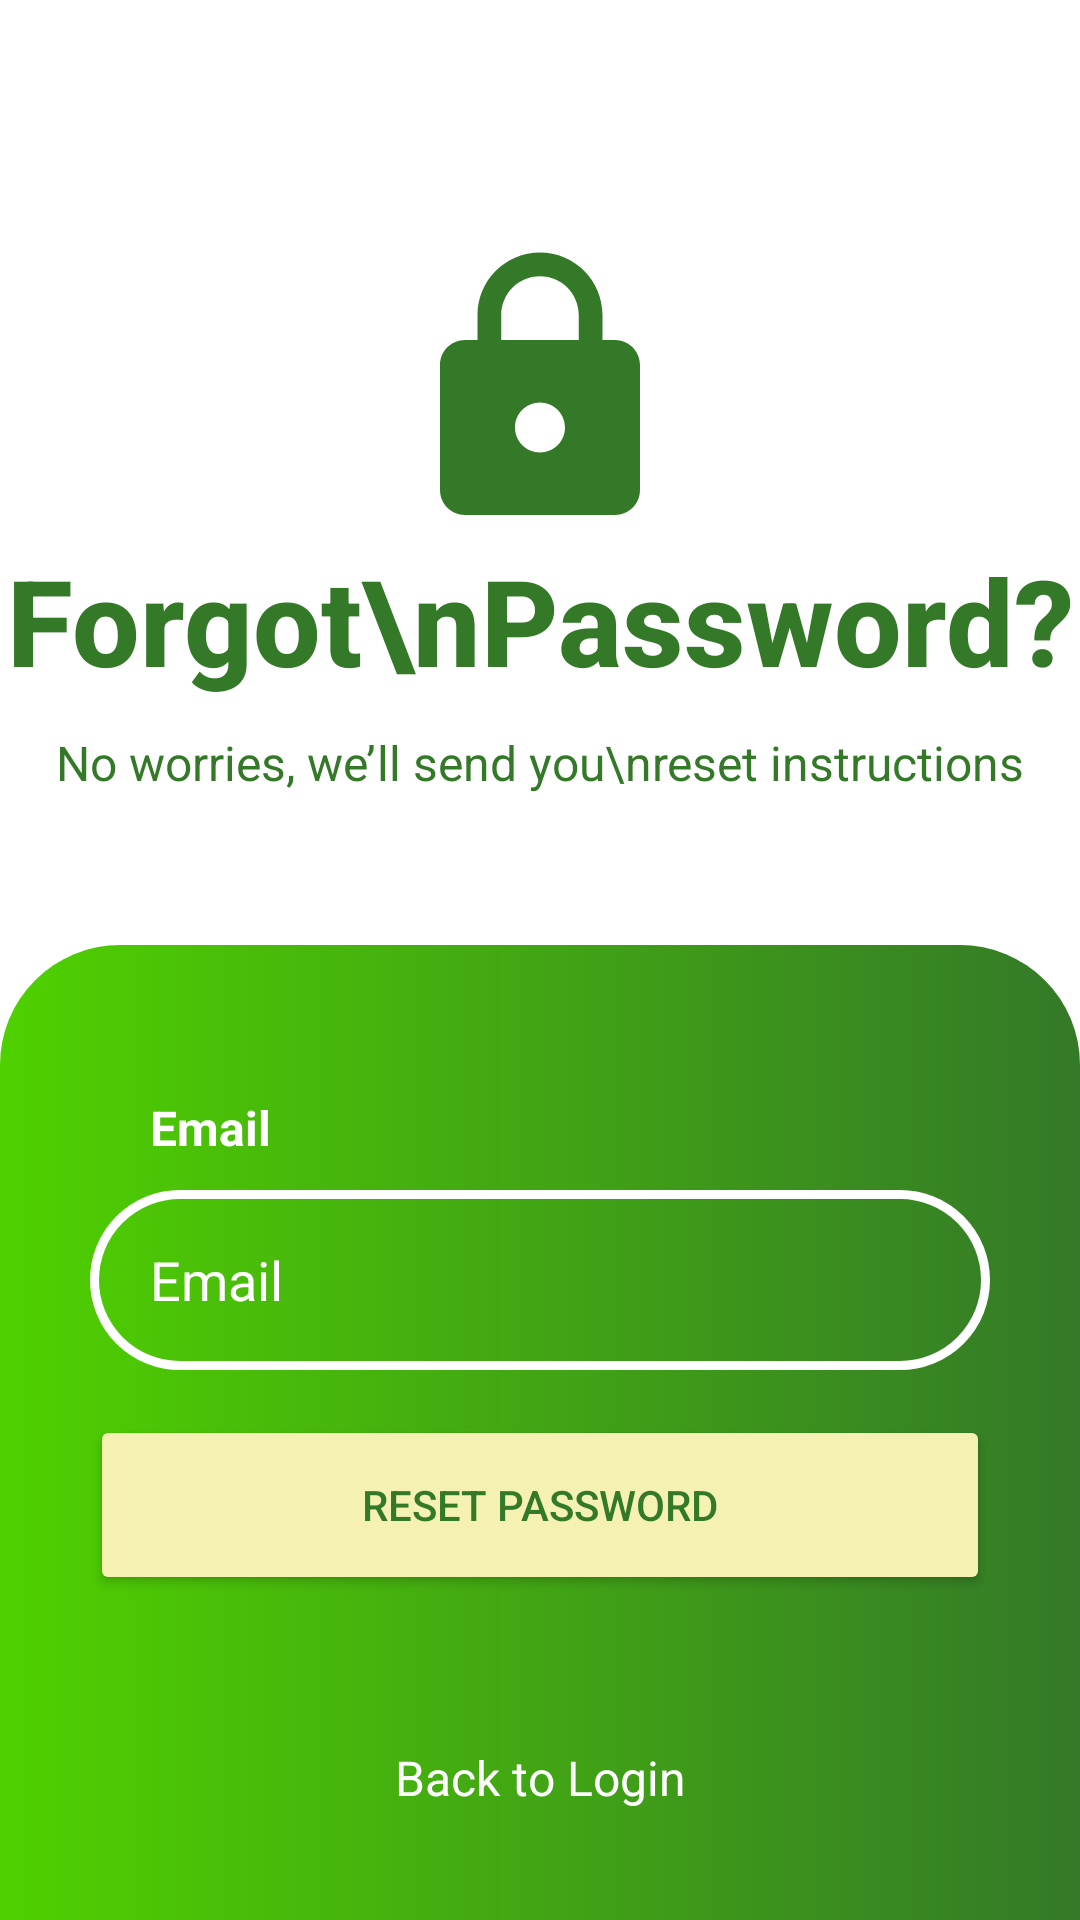

Icon bounding boxes for this 1080 x 1920 phone screenshot, format (x1, y1, x2, y2):
lock: (440, 252, 640, 515)
